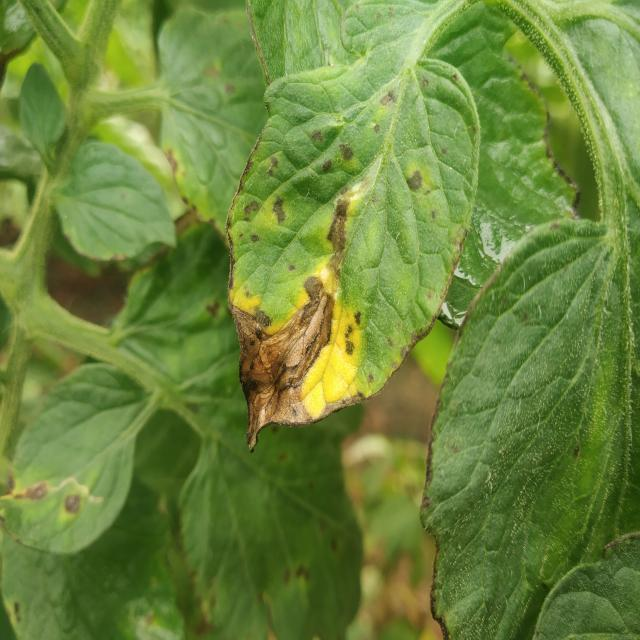Tomato mosaic virus leaf: (218, 56, 485, 460)
